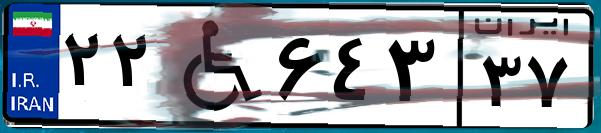2: (57, 26, 110, 100), (110, 28, 158, 98)
3: (385, 28, 445, 110), (475, 38, 525, 113)
4: (330, 28, 385, 110)
6: (270, 28, 330, 110)
7: (525, 38, 570, 115)
ژ (معلولین و جانبازان): (158, 12, 270, 120)
